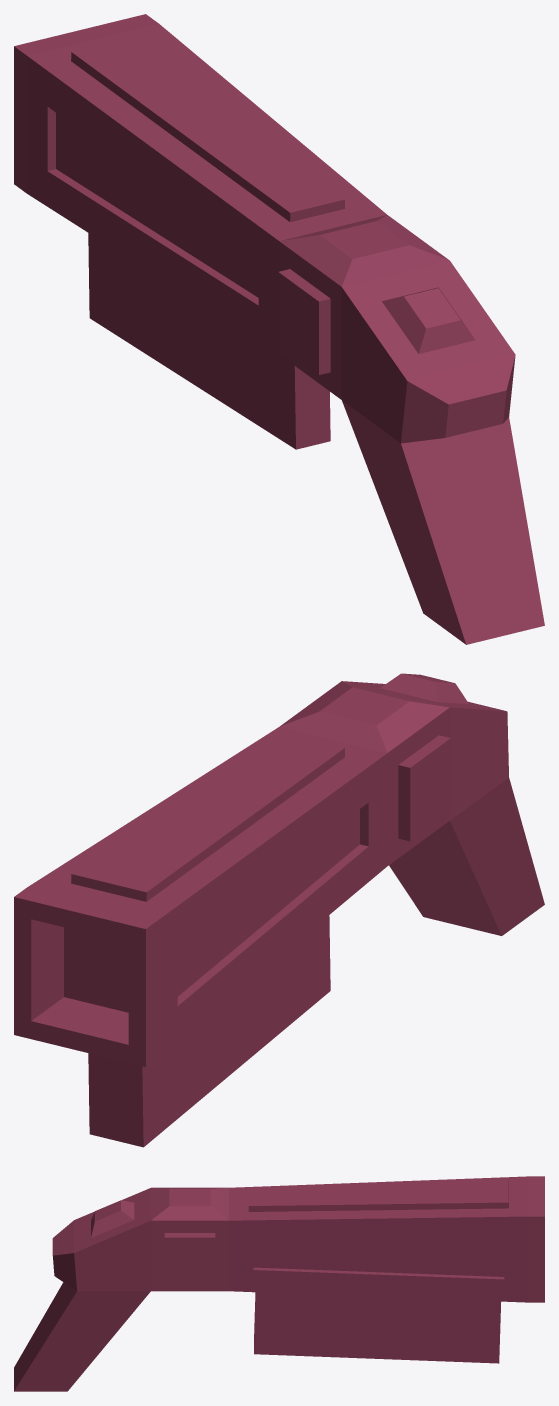
File: Pistola.fbx
The picture shows the model from 3 angles, top to bottom: view 1: azimuth 30°, elevation 25°; view 2: azimuth 150°, elevation 25°; view 3: azimuth 270°, elevation 25°; orthographic projection. The views are drawn at different scales.
Parts seen in each view (by area): view 1: Cube; view 2: Cube; view 3: Cube.
Boxes of the visible parts, left/top/right/bottom form: Cube: left=14, top=14, right=544, bottom=644; Cube: left=14, top=673, right=544, bottom=1147; Cube: left=14, top=1176, right=544, bottom=1391.
Bounding box in the file's own units: 62.32 × 134 × 341.
